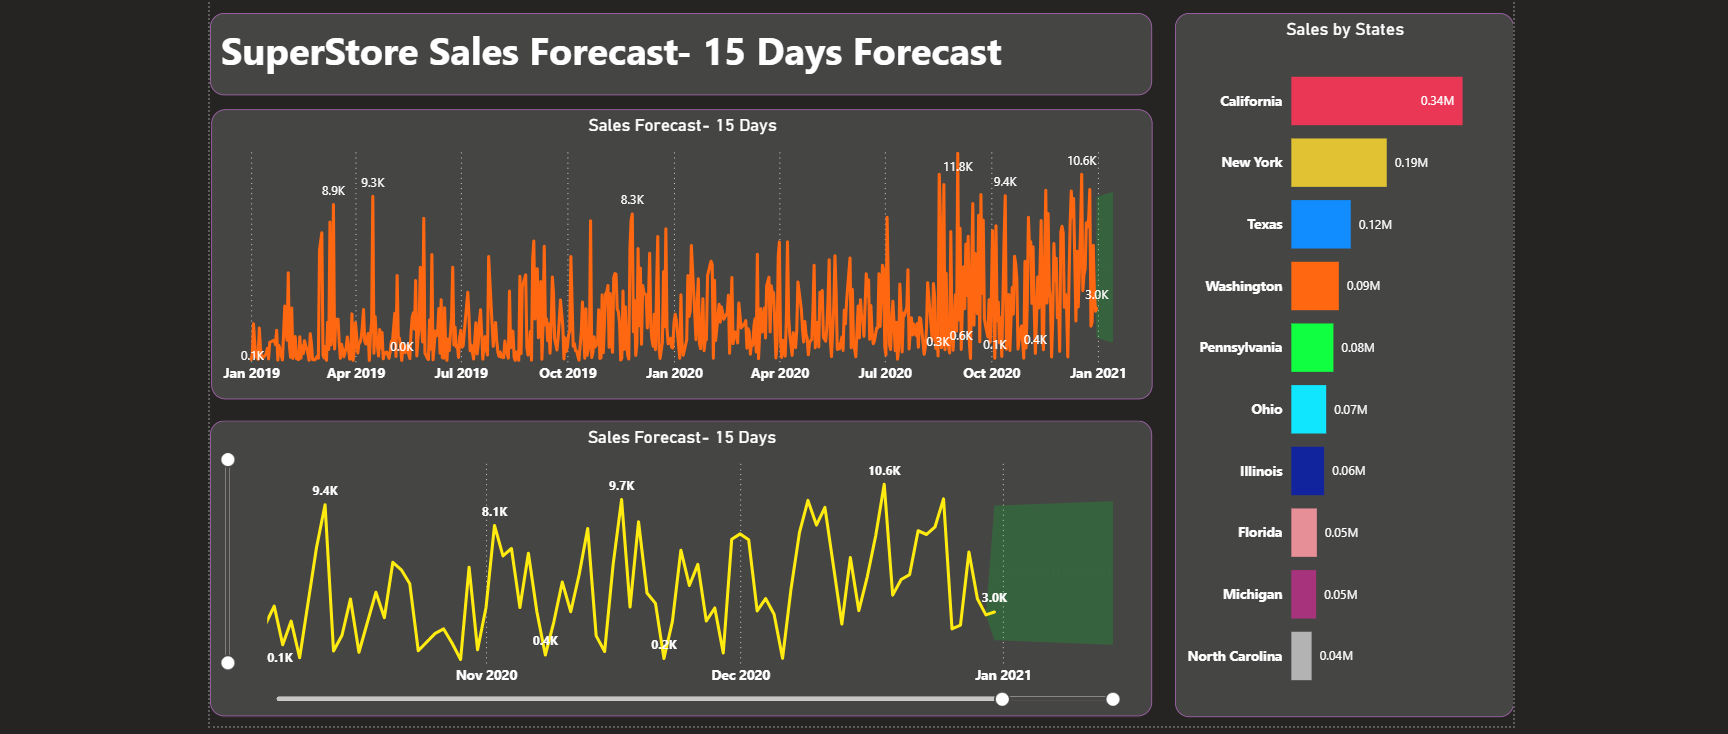

Layout of this report page (visuals, bound fields, positions):
{"tool":"powerbi","page":{"name":"Sales Forecast","canvas":[1280,720],"ordinal":1},"visuals":[{"type":"lineChart","title":"Sales Forecast- 15 Days","fields":{"Y":["Sum(SuperStore_Sales_Dataset.Sales)"],"Category":["SuperStore_Sales_Dataset.Order Date"]},"box":[1.2,114.1,923.9,284.7],"z":0},{"type":"lineChart","title":"Sales Forecast- 15 Days","fields":{"Y":["Sum(SuperStore_Sales_Dataset.Sales)"],"Category":["SuperStore_Sales_Dataset.Order Date"]},"box":[0,419.6,925.2,290.8],"z":1000},{"type":"clusteredBarChart","title":"Sales by States","fields":{"Category":["SuperStore_Sales_Dataset.State"],"Y":["Sum(SuperStore_Sales_Dataset.Sales)"]},"box":[947.2,19.6,332.5,690.8],"z":2000},{"type":"textbox","box":[0,19.6,925.2,81],"z":3000}]}

Visuals, with their boxes on the page's 1280x720 design canvas (x1, y1, x2, y2). These are canvas units, not pixel positions in the 1728x734 screenshot, which may show the page scaled, cropped or inside an application window:
"Sales Forecast- 15 Days" lineChart: BBox(1, 114, 925, 399)
"Sales Forecast- 15 Days" lineChart: BBox(0, 420, 925, 710)
"Sales by States" clusteredBarChart: BBox(947, 20, 1280, 710)
textbox: BBox(0, 20, 925, 101)
